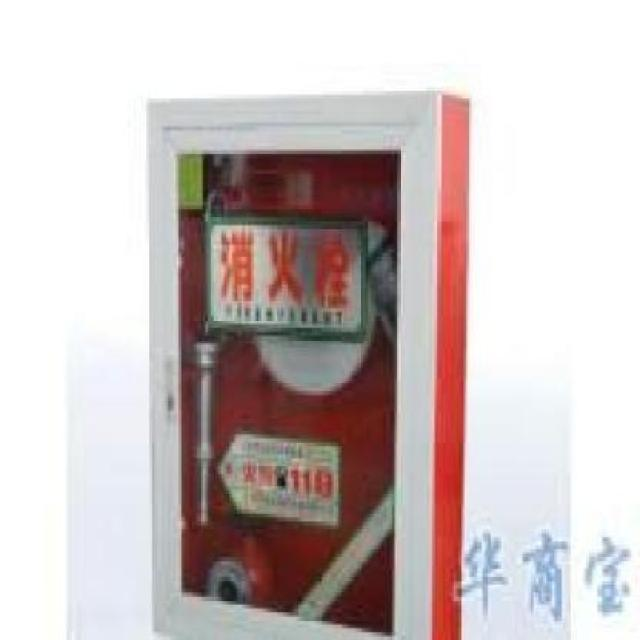firehydrant: (142, 78, 472, 640)
